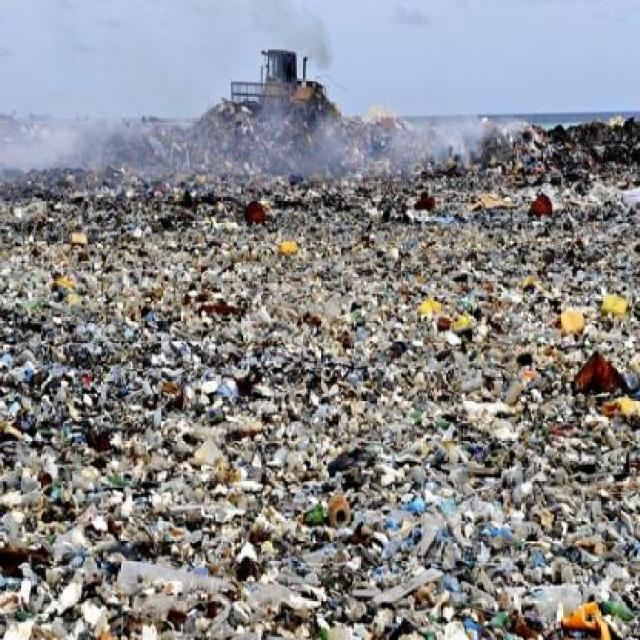garbage: (2, 111, 636, 638)
